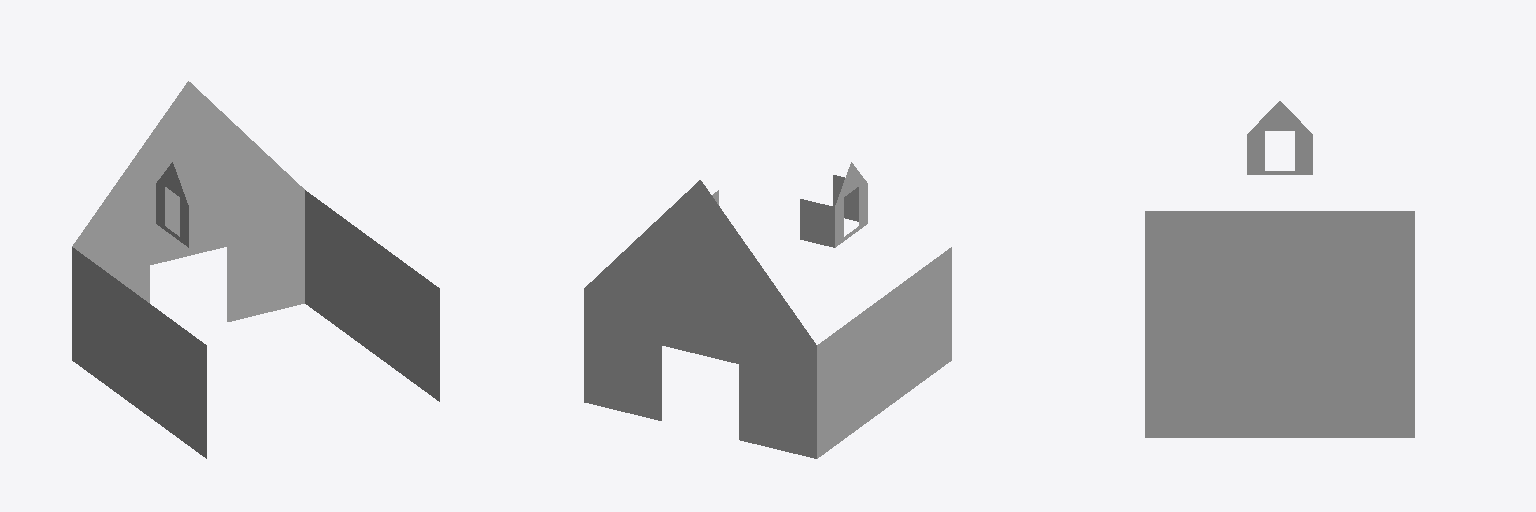
File: Walls.obj
3 renders of one model, left to right at view 1: azimuth 30°, elevation 25°; view 2: azimuth 150°, elevation 25°; view 3: azimuth 270°, elevation 25°, orthographic.
Parts seen in each view (by area): view 1: House.008; view 2: House.008; view 3: House.008.
Boxes of the visible parts, x1=… form: House.008: x1=72, y1=81, x2=439, y2=458; House.008: x1=584, y1=162, x2=951, y2=458; House.008: x1=1145, y1=101, x2=1414, y2=437.
Bounding box in the file's own units: 2.18 × 2.24 × 2.19.